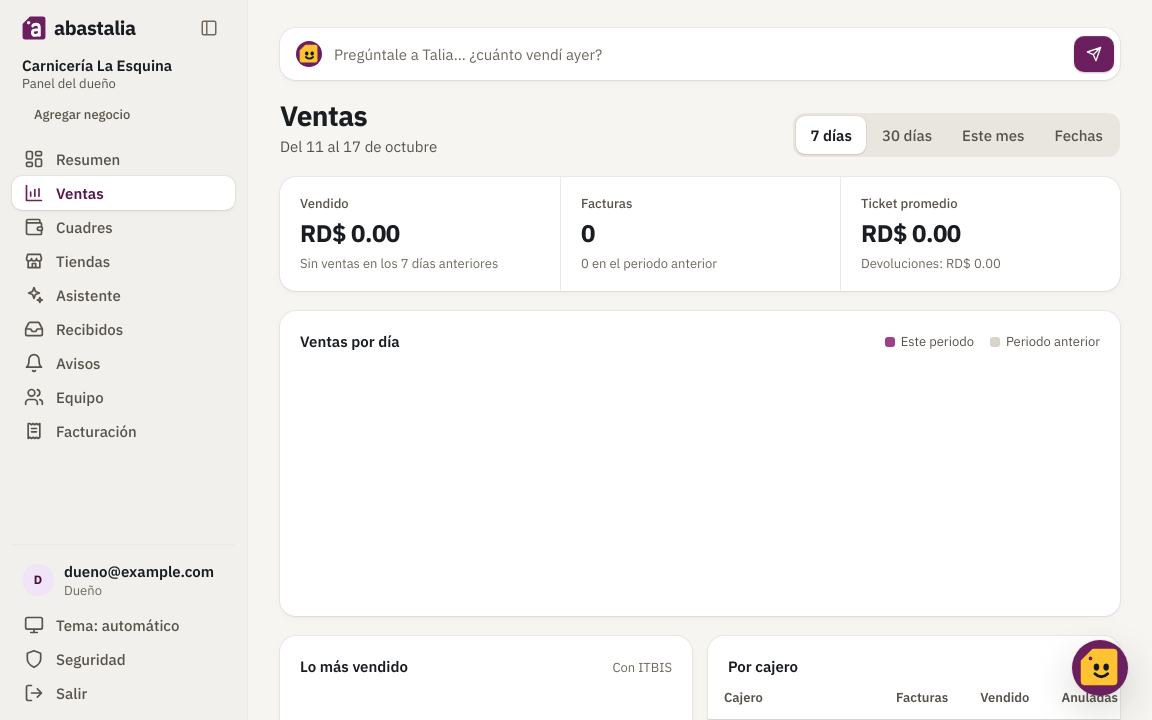
Scenario: TK-301: a link in the popup's answer navigates in the same tab
This screenshot has width=1152, height=720.
Click the button named "Pregúntale a Talia".
click(1100, 668)  # box [1072,640,1128,696]
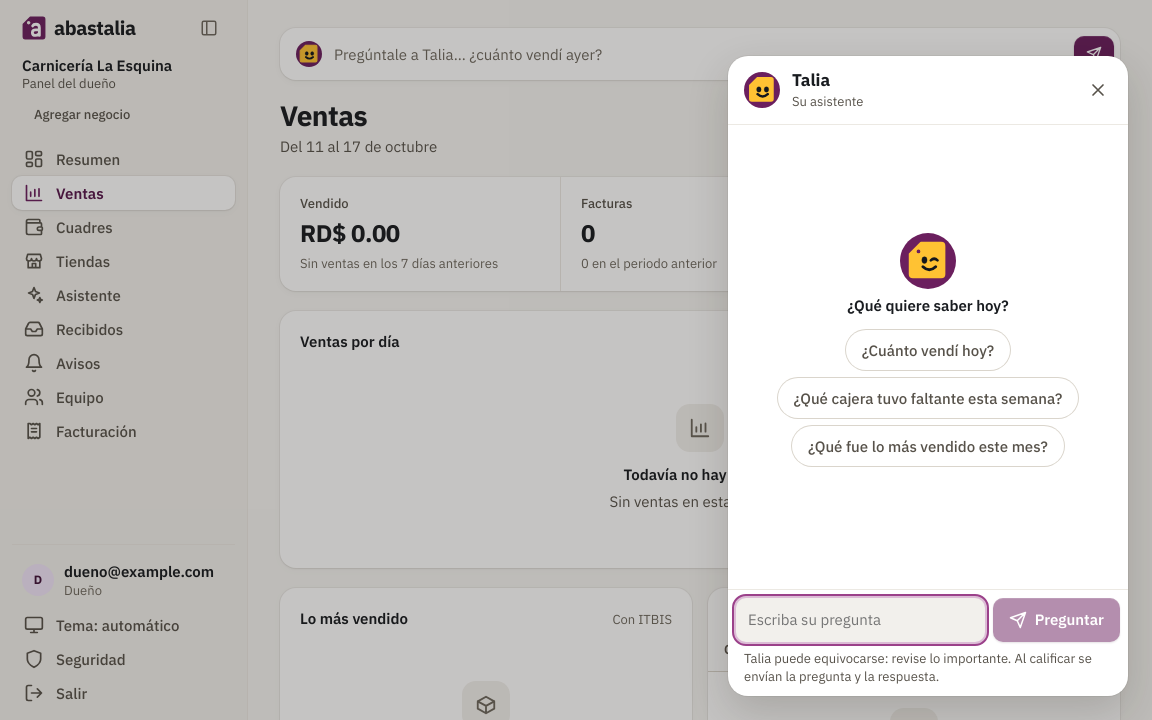
Click the button "¿Cuánto vendí hoy?".
click(928, 350)  # box [846,330,1010,370]
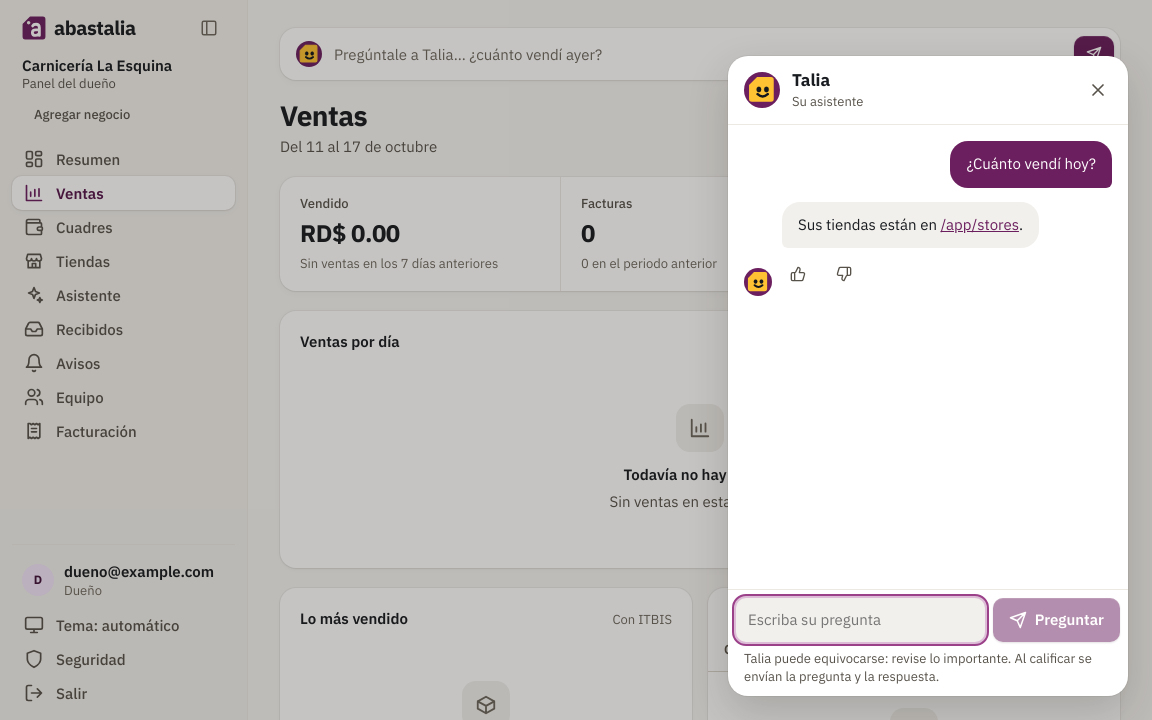
Click the link "/app/stores".
click(980, 224)  # box [940,214,1019,234]
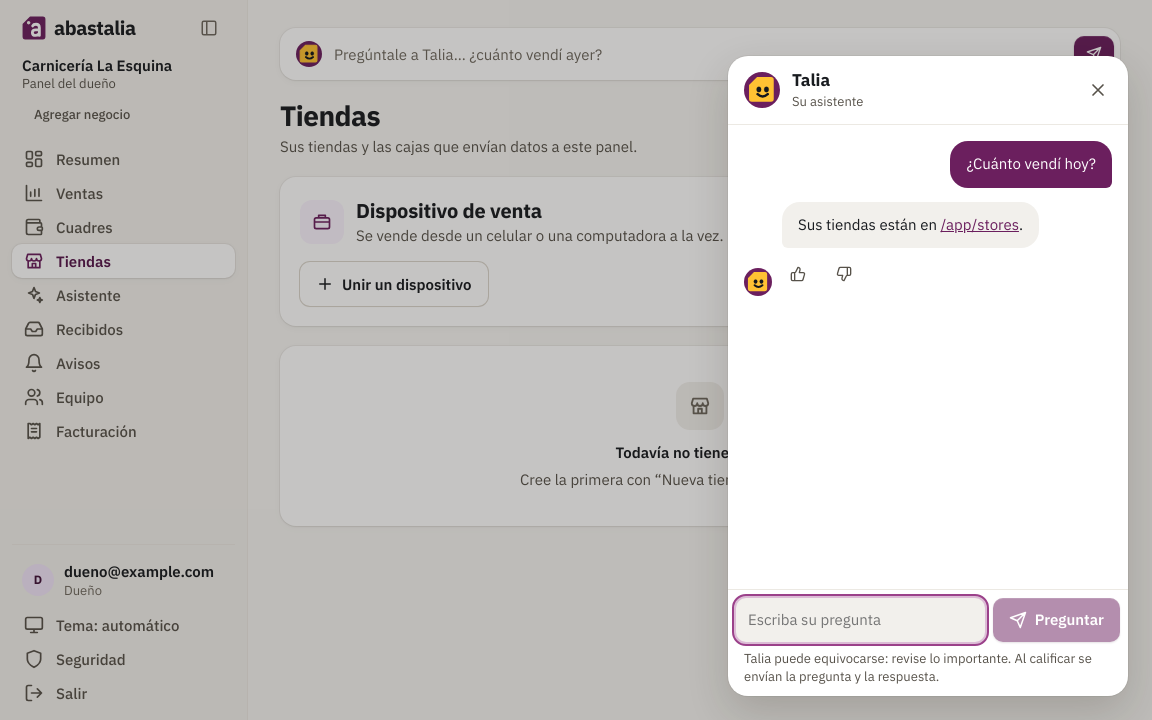
Check: the heading "Tiendas" is shown, box [280,97,380,134]
